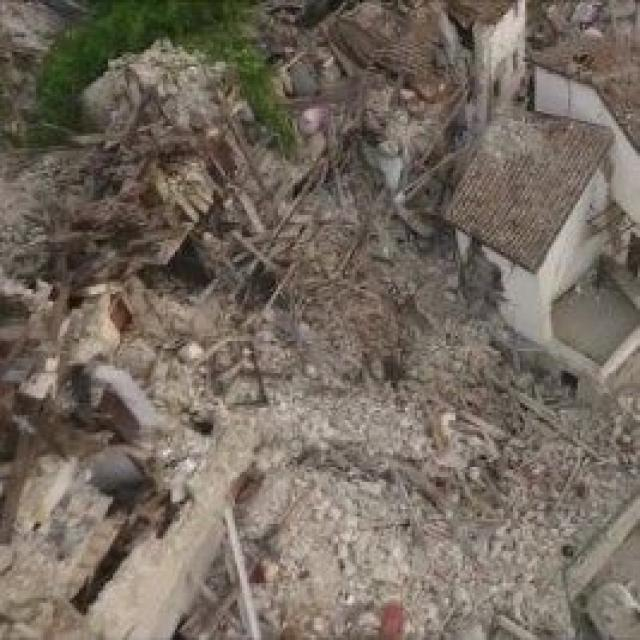collapsed_building: (98, 0, 462, 390)
